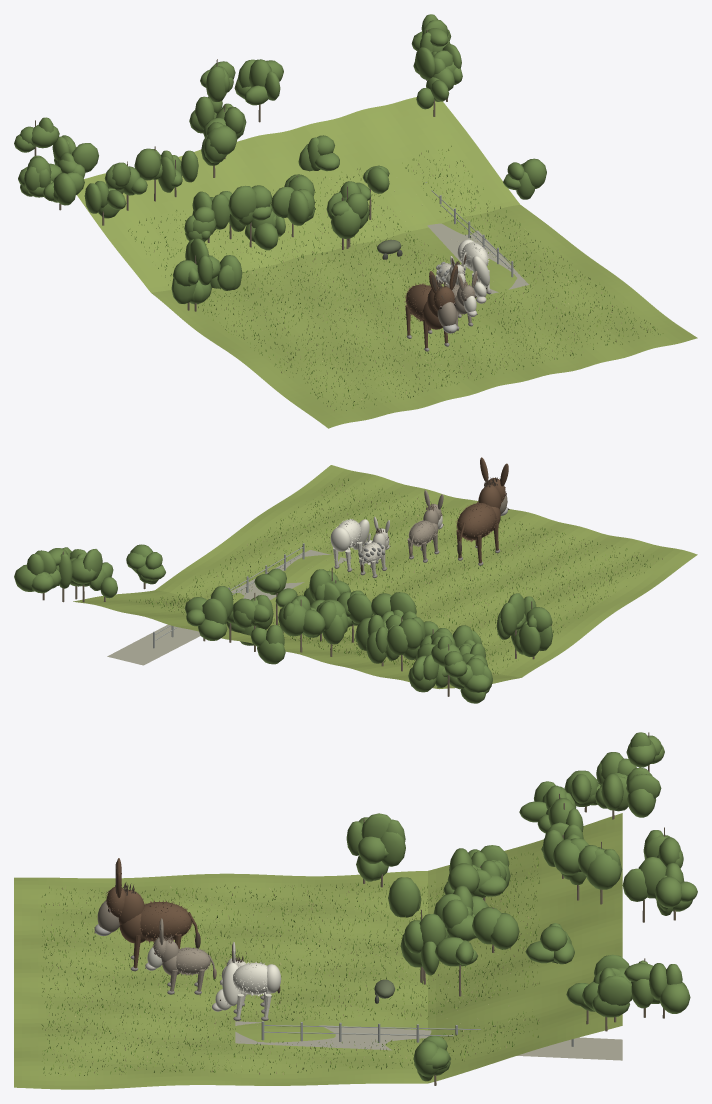
The model's file is scene-5-gpt6.glb.
3 renders of one model, top to bottom at view 1: azimuth 30°, elevation 25°; view 2: azimuth 150°, elevation 25°; view 3: azimuth 270°, elevation 25°, orthographic. The views are drawn at different scales.
Parts seen in each view (by area): view 1: rolling grassy pasture, pasture individual blades.001, pasture individual blades, country lane, leafy tree cluster.082, pasture individual blades.002, leafy tree cluster.167, leafy tree cluster.052, leafy tree cluster.112; view 2: rolling grassy pasture, country lane, pasture individual blades.001, pasture individual blades, large left brown donkey barrel, leafy tree cluster.117, leafy tree cluster.013, leafy tree cluster.121, leafy tree cluster.033, pasture individual blades.002, leafy tree cluster.052, leafy tree cluster.051 (+16 smaller); view 3: rolling grassy pasture, pasture individual blades.001, country lane, pasture individual blades, large left brown donkey barrel, leafy tree cluster.019, leafy tree cluster.117, white grazer barrel, pasture individual blades.002, leafy tree cluster.074, leafy tree cluster.137, leafy tree cluster.112 (+20 smaller).
Boxes of the visible parts, x1,y1,x2,y2 form: rolling grassy pasture: (77,97,697,428); pasture individual blades.001: (128,149,663,410); pasture individual blades: (131,146,660,410); country lane: (427,223,528,294); leafy tree cluster.082: (228,186,256,220); pasture individual blades.002: (138,152,650,410); leafy tree cluster.167: (331,207,361,238); leafy tree cluster.052: (134,148,161,180); leafy tree cluster.112: (207,125,237,155); rolling grassy pasture: (73,465,697,689); country lane: (107,550,346,665); pasture individual blades.001: (136,478,651,674); pasture individual blades: (129,478,658,673); large left brown donkey barrel: (457,503,496,540); leafy tree cluster.117: (278,602,306,636); leafy tree cluster.013: (347,593,372,624); leafy tree cluster.121: (518,624,540,657); leafy tree cluster.033: (257,640,285,664); pasture individual blades.002: (147,483,662,674); leafy tree cluster.052: (399,618,423,650); leafy tree cluster.051: (386,625,408,655); rolling grassy pasture: (14,813,622,1089); pasture individual blades.001: (41,852,539,1076); country lane: (235,1021,622,1060); pasture individual blades: (41,853,539,1075); large left brown donkey barrel: (140,902,191,941); leafy tree cluster.019: (388,877,420,917); leafy tree cluster.117: (586,849,622,889); white grazer barrel: (233,963,267,994); pasture individual blades.002: (45,858,538,1074); leafy tree cluster.074: (597,975,632,1005); leafy tree cluster.137: (490,913,519,949); leafy tree cluster.112: (552,839,580,875).
Bounding box in the file's own units: 22.05 × 6 × 24.72.
